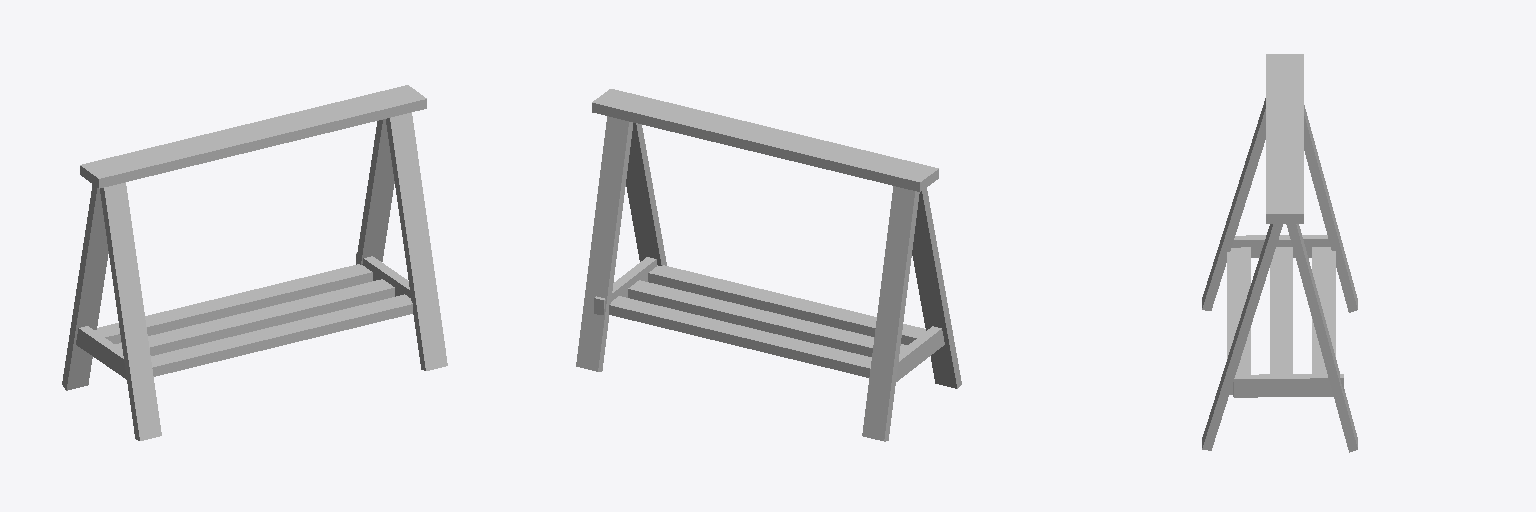
Rendered from table-support.obj.
3 views of the same model, side by side, from view 1: azimuth 30°, elevation 25°; view 2: azimuth 150°, elevation 25°; view 3: azimuth 270°, elevation 25° (orthographic).
Parts seen in each view (by area): view 1: Cube.042_Cube.045, Cube.044_Cube.047, Cube.043_Cube.046, Cube.045_Cube.048; view 2: Cube.042_Cube.045, Cube.044_Cube.047, Cube.043_Cube.046, Cube.045_Cube.048; view 3: Cube.042_Cube.045, Cube.044_Cube.047, Cube.043_Cube.046, Cube.045_Cube.048.
Boxes of the visible parts, <box> form: Cube.042_Cube.045: <box>62,112,447,440</box>; Cube.044_Cube.047: <box>95,264,412,376</box>; Cube.043_Cube.046: <box>80,85,426,188</box>; Cube.045_Cube.048: <box>76,253,410,379</box>; Cube.042_Cube.045: <box>576,116,961,441</box>; Cube.044_Cube.047: <box>609,265,925,377</box>; Cube.043_Cube.046: <box>592,89,938,191</box>; Cube.045_Cube.048: <box>594,257,944,381</box>; Cube.042_Cube.045: <box>1202,98,1357,452</box>; Cube.044_Cube.047: <box>1227,247,1335,394</box>; Cube.043_Cube.046: <box>1266,54,1303,223</box>; Cube.045_Cube.048: <box>1232,235,1343,397</box>.
Bounding box in the file's own units: 1.63 × 1.16 × 0.6726.